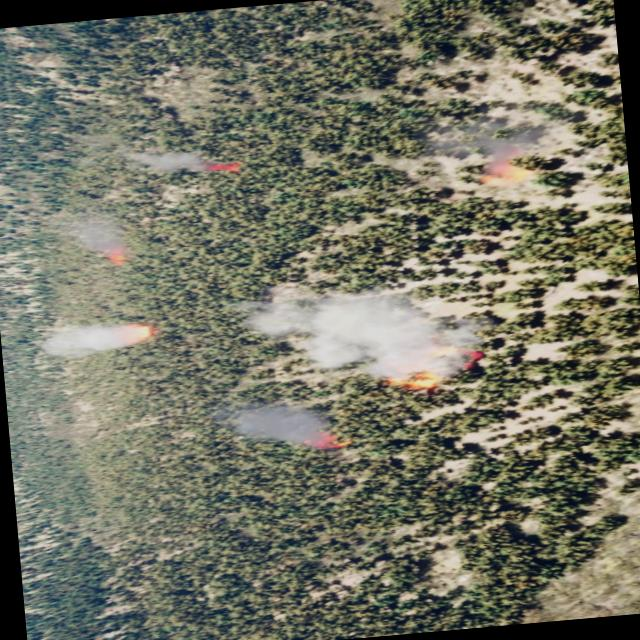fire: (384, 332, 478, 393), (102, 240, 142, 269), (300, 426, 340, 452), (122, 318, 154, 342), (200, 158, 242, 176)
smoke: (226, 266, 512, 394), (430, 110, 553, 182), (210, 390, 346, 452), (38, 314, 152, 361), (120, 136, 221, 180), (64, 210, 132, 261)
